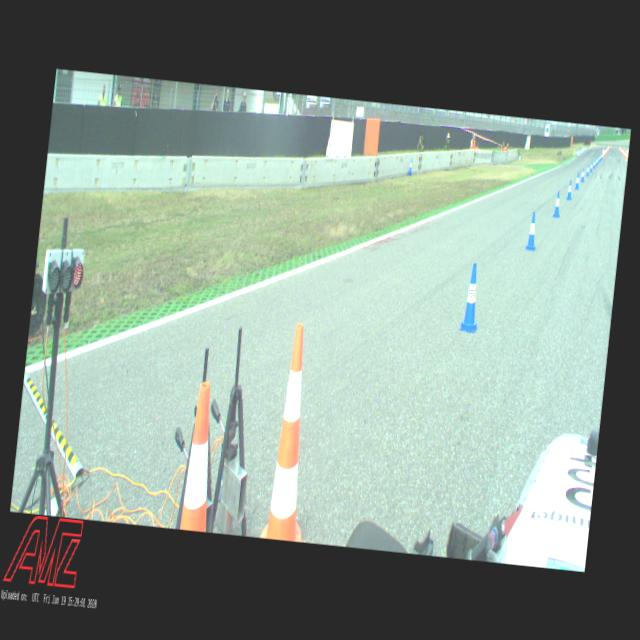blue_cone: (458, 262, 483, 332), (526, 211, 538, 250), (552, 190, 562, 216), (566, 180, 573, 200), (574, 172, 580, 189), (580, 167, 585, 182), (408, 159, 412, 175), (586, 163, 590, 176), (592, 160, 596, 170), (594, 157, 598, 166), (590, 162, 592, 172)
large_orange_cone: (260, 321, 322, 541), (179, 380, 222, 532)
